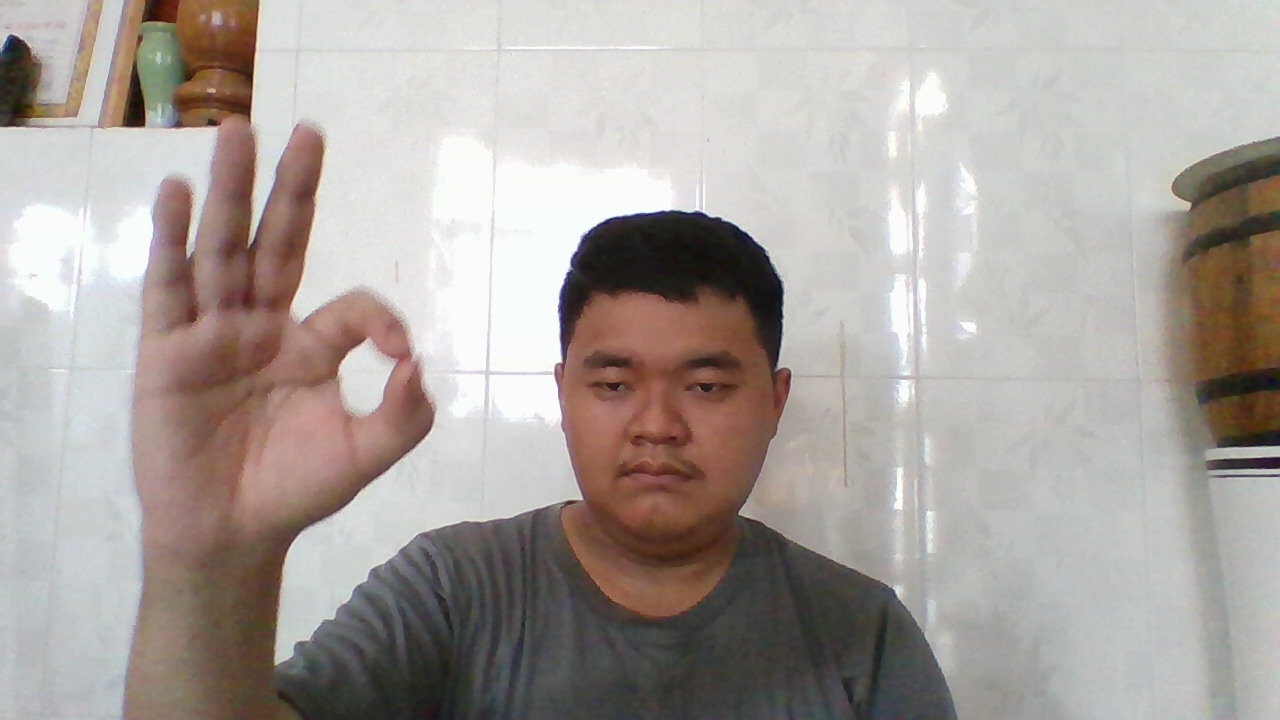T: (147, 124, 431, 563)
